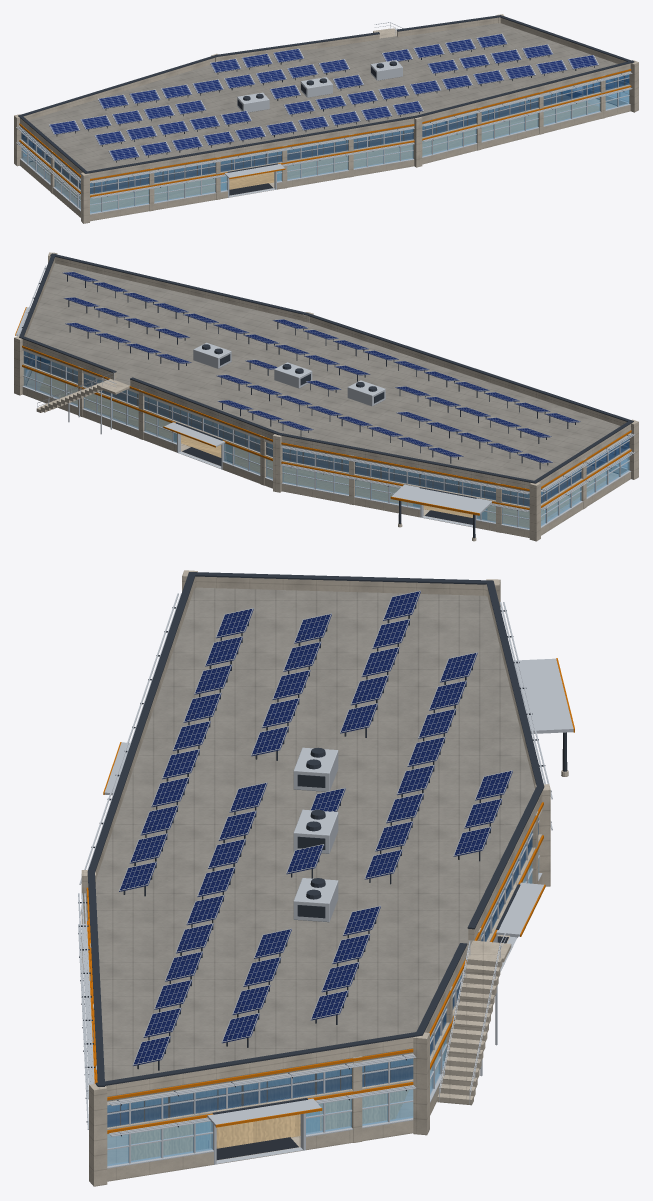
File: landmark_b43.glb
3 renders of one model, top to bottom at view 1: azimuth 30°, elevation 25°; view 2: azimuth 150°, elevation 25°; view 3: azimuth 270°, elevation 25°, orthographic. The views are drawn at different scales.
Parts seen in each view (by area): view 1: B43_RoofDeck, B43_SolarPanels, B43_Concrete, B43_AluminumMullions, B43_OfficeFloorOak, B43_CurtainGlassLower, B43_CurtainGlassUpper, B43_DarkSteel, B43_AccentTrim, B43_InteriorDrywall, B43_OfficeFloorConc, B43_WelcomeMats; view 2: B43_RoofDeck, B43_Concrete, B43_AluminumMullions, B43_OfficeFloorOak, B43_SolarPanels, B43_DarkSteel, B43_CurtainGlassLower, B43_CurtainGlassUpper, B43_AccentTrim, B43_InteriorDrywall, B43_OfficeFloorConc, B43_WelcomeMats; view 3: B43_RoofDeck, B43_SolarPanels, B43_Concrete, B43_AluminumMullions, B43_DarkSteel, B43_OfficeFloorOak, B43_CurtainGlassUpper, B43_CurtainGlassLower, B43_AccentTrim, B43_OfficeFloorConc, B43_WelcomeMats.
Part boxes in pixels (x1=…): B43_RoofDeck: x1=20, y1=23, x2=630, y2=181; B43_SolarPanels: x1=49, y1=33, x2=598, y2=160; B43_Concrete: x1=14, y1=14, x2=638, y2=223; B43_AluminumMullions: x1=16, y1=22, x2=632, y2=214; B43_OfficeFloorOak: x1=40, y1=93, x2=599, y2=211; B43_CurtainGlassLower: x1=21, y1=90, x2=629, y2=213; B43_CurtainGlassUpper: x1=21, y1=74, x2=629, y2=194; B43_DarkSteel: x1=17, y1=15, x2=634, y2=196; B43_AccentTrim: x1=19, y1=69, x2=631, y2=197; B43_InteriorDrywall: x1=20, y1=71, x2=630, y2=182; B43_OfficeFloorConc: x1=21, y1=94, x2=624, y2=220; B43_WelcomeMats: x1=229, y1=90, x2=581, y2=195; B43_RoofDeck: x1=23, y1=263, x2=630, y2=491; B43_Concrete: x1=14, y1=252, x2=638, y2=541; B43_AluminumMullions: x1=16, y1=265, x2=635, y2=530; B43_OfficeFloorOak: x1=40, y1=362, x2=605, y2=527; B43_SolarPanels: x1=62, y1=271, x2=580, y2=463; B43_DarkSteel: x1=19, y1=253, x2=633, y2=538; B43_CurtainGlassLower: x1=24, y1=368, x2=629, y2=528; B43_CurtainGlassUpper: x1=23, y1=351, x2=629, y2=506; B43_AccentTrim: x1=15, y1=307, x2=631, y2=515; B43_InteriorDrywall: x1=22, y1=348, x2=630, y2=493; B43_OfficeFloorConc: x1=27, y1=362, x2=618, y2=535; B43_WelcomeMats: x1=37, y1=357, x2=472, y2=524; B43_RoofDeck: x1=95, y1=587, x2=541, y2=1101; B43_SolarPanels: x1=119, y1=590, x2=512, y2=1066; B43_Concrete: x1=81, y1=570, x2=568, y2=1186; B43_AluminumMullions: x1=78, y1=593, x2=573, y2=1168; B43_DarkSteel: x1=78, y1=572, x2=567, y2=1136; B43_OfficeFloorOak: x1=127, y1=883, x2=509, y2=1160; B43_CurtainGlassUpper: x1=107, y1=818, x2=538, y2=1127; B43_CurtainGlassLower: x1=107, y1=849, x2=538, y2=1165; B43_AccentTrim: x1=86, y1=658, x2=574, y2=1133; B43_OfficeFloorConc: x1=107, y1=855, x2=528, y2=1181; B43_WelcomeMats: x1=216, y1=935, x2=508, y2=1159.
Size of the model in its own units: 84.01 by 8.12 by 33.89.
Materials: 16 (6 with a texture image).
